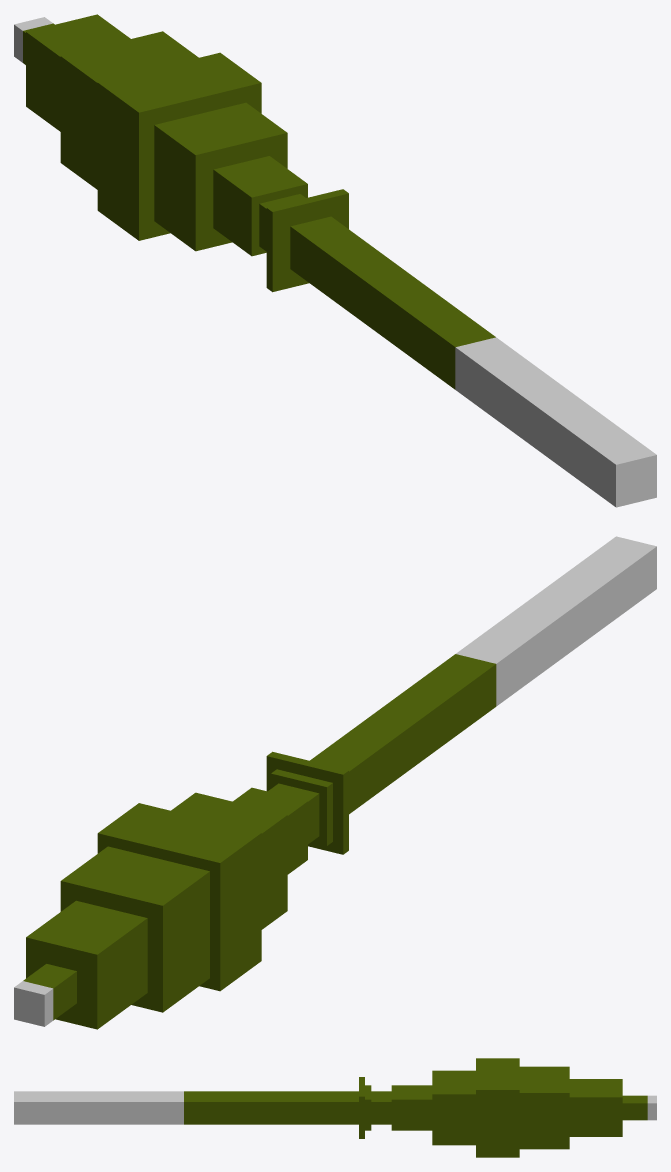
The model's file is rpg_missile.fbx.
3 renders of one model, top to bottom at view 1: azimuth 30°, elevation 25°; view 2: azimuth 150°, elevation 25°; view 3: azimuth 270°, elevation 25°, orthographic. The views are drawn at different scales.
Visible parts, largest first — view 1: rpg_missile, rpg_missile_lWing, rpg_missile_tWing, rpg_missile_bWing; view 2: rpg_missile, rpg_missile_lWing, rpg_missile_tWing, rpg_missile_bWing; view 3: rpg_missile, rpg_missile_rWing, rpg_missile_tWing, rpg_missile_lWing.
Part boxes in pixels (box(x1,y1,x2,y2)): rpg_missile: box(14, 14, 656, 507); rpg_missile_lWing: box(455, 345, 617, 494); rpg_missile_tWing: box(463, 337, 650, 458); rpg_missile_bWing: box(455, 382, 610, 502); rpg_missile: box(14, 536, 656, 1029); rpg_missile_lWing: box(489, 549, 650, 698); rpg_missile_tWing: box(456, 540, 642, 661); rpg_missile_bWing: box(496, 585, 650, 706); rpg_missile: box(14, 1058, 656, 1157); rpg_missile_rWing: box(20, 1106, 183, 1124); rpg_missile_tWing: box(20, 1093, 183, 1106); rpg_missile_lWing: box(20, 1091, 183, 1093).
Size of the model in its own units: 14.4 by 14.4 by 124.
